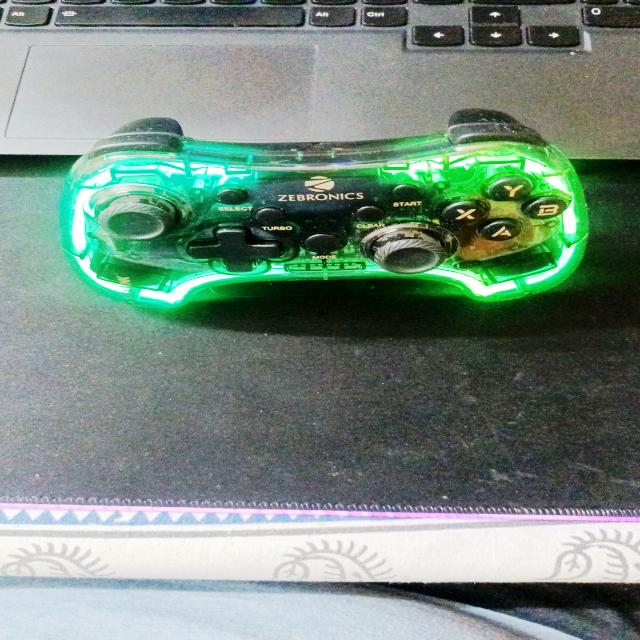gamepad: (56, 108, 591, 310)
